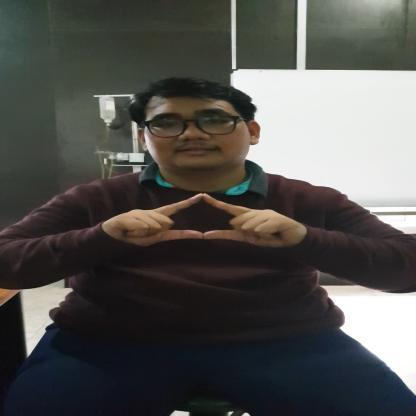A: (103, 192, 305, 249)
